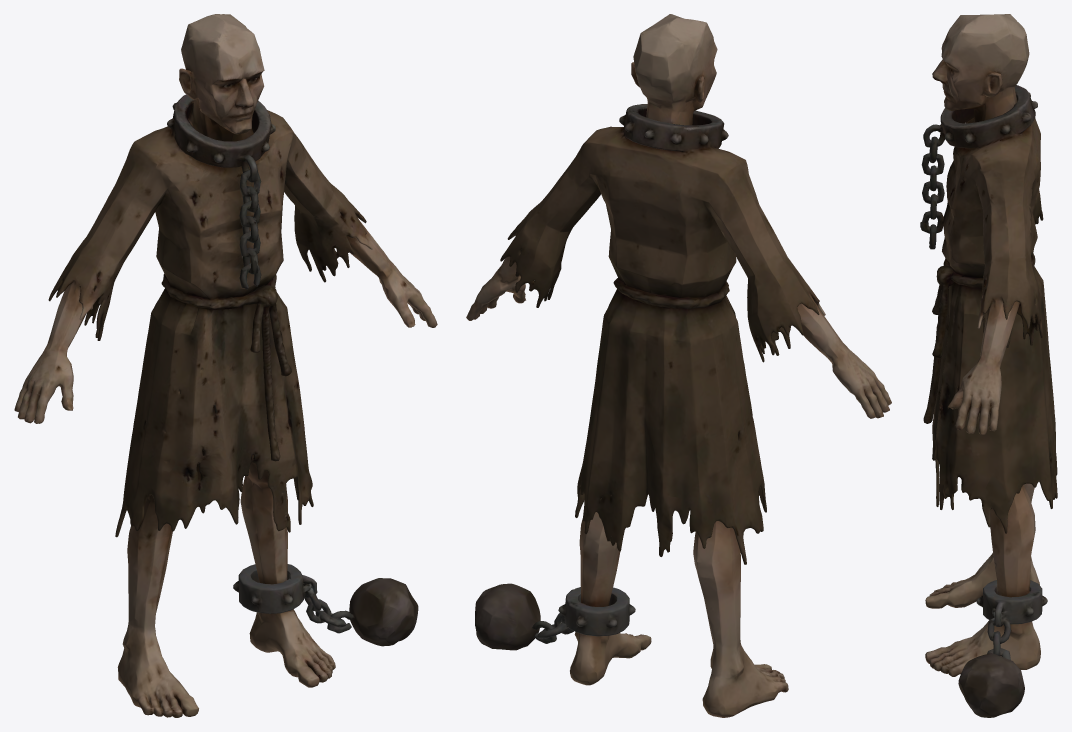
File: prisoner.glb
The picture shows the model from 3 angles, left to right: view 1: azimuth 30°, elevation 25°; view 2: azimuth 150°, elevation 25°; view 3: azimuth 270°, elevation 25°; orthographic projection. The views are drawn at different scales.
Visible parts, largest first — view 1: tripo_node_92e9dea5-fc35-4d46-af1c-bf95927a14f0; view 2: tripo_node_92e9dea5-fc35-4d46-af1c-bf95927a14f0; view 3: tripo_node_92e9dea5-fc35-4d46-af1c-bf95927a14f0.
Part boxes in pixels (x1=…): tripo_node_92e9dea5-fc35-4d46-af1c-bf95927a14f0: x1=14, y1=14, x2=437, y2=717; tripo_node_92e9dea5-fc35-4d46-af1c-bf95927a14f0: x1=466, y1=14, x2=891, y2=717; tripo_node_92e9dea5-fc35-4d46-af1c-bf95927a14f0: x1=920, y1=14, x2=1057, y2=717.
Size of the model in its own units: 0.6496 by 1 by 0.2002.
1 material, 1 textured.
